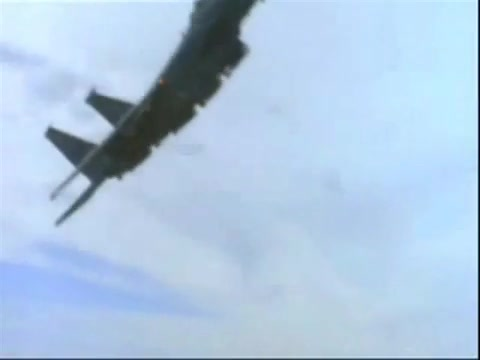aeroplane: (44, 2, 266, 230)
